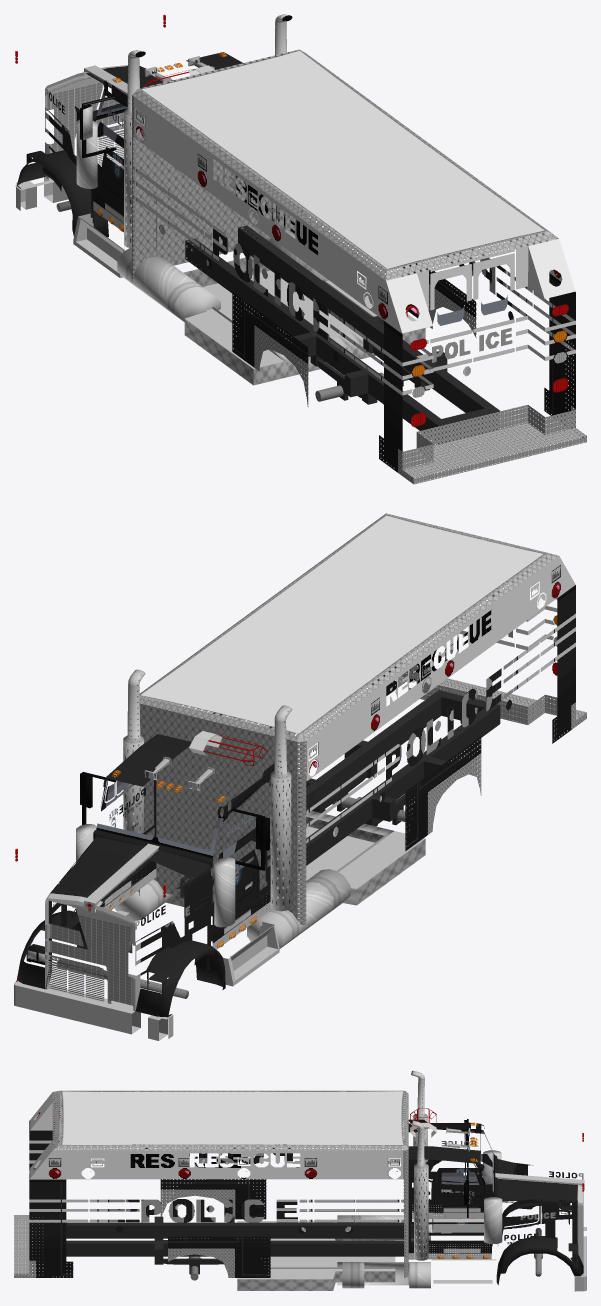
The model's file is 88W900swat.fbx.
3 renders of one model, top to bottom at view 1: azimuth 30°, elevation 25°; view 2: azimuth 150°, elevation 25°; view 3: azimuth 270°, elevation 25°, orthographic. The views are drawn at different scales.
Parts seen in each view (by area): view 1: 88W900swat; view 2: 88W900swat; view 3: 88W900swat.
Part boxes in pixels (bbox=[...]): 88W900swat: bbox=[15, 14, 586, 484]; 88W900swat: bbox=[14, 513, 586, 1040]; 88W900swat: bbox=[14, 1070, 586, 1291].
Size of the model in its own units: 2.89 by 3.57 by 10.93.
